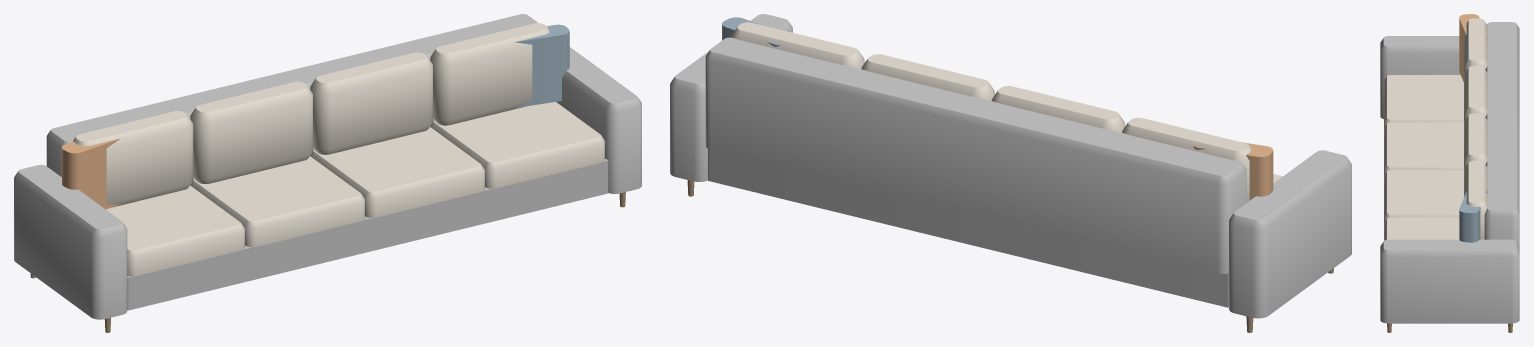
3 renders of one model, left to right at view 1: azimuth 30°, elevation 25°; view 2: azimuth 150°, elevation 25°; view 3: azimuth 270°, elevation 25°, orthographic. The views are drawn at different scales.
Parts seen in each view (by area): view 1: Sofa văng Chiều dài=3300; view 2: Sofa văng Chiều dài=3300; view 3: Sofa văng Chiều dài=3300.
Boxes of the visible parts, bbox=[...] form: Sofa văng Chiều dài=3300: bbox=[14, 14, 641, 332]; Sofa văng Chiều dài=3300: bbox=[670, 14, 1351, 332]; Sofa văng Chiều dài=3300: bbox=[1380, 14, 1519, 332].
Size of the model in its own units: 3.32 by 0.85 by 0.9.
